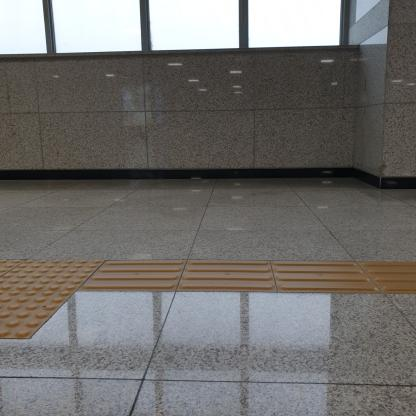go: (270, 260, 385, 293), (75, 260, 188, 291), (176, 260, 278, 292)
stop: (0, 260, 107, 291)
